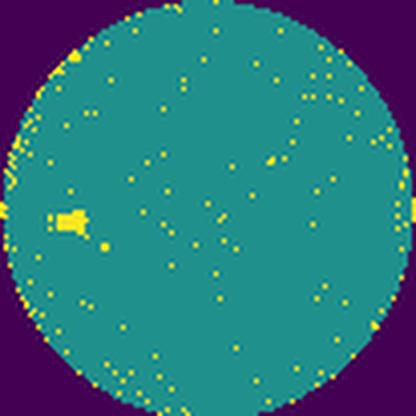Loc: (49, 209, 93, 238)
